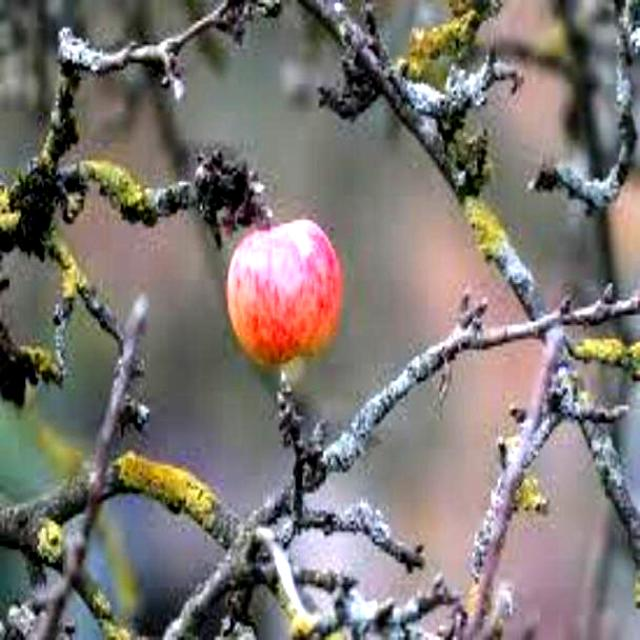SCAB: (221, 208, 349, 371)
